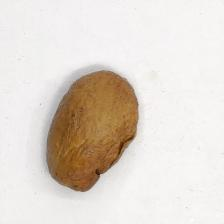NG: (86, 128, 138, 177)
